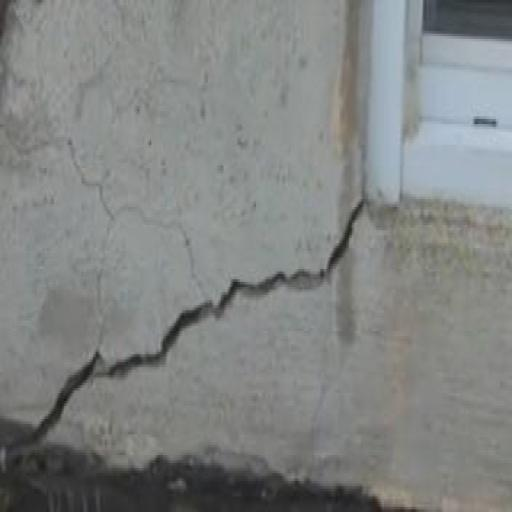spalling: (9, 191, 370, 466)
